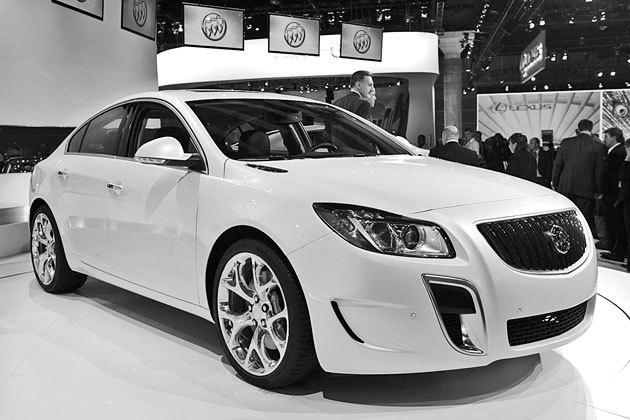car: (25, 99, 602, 388)
